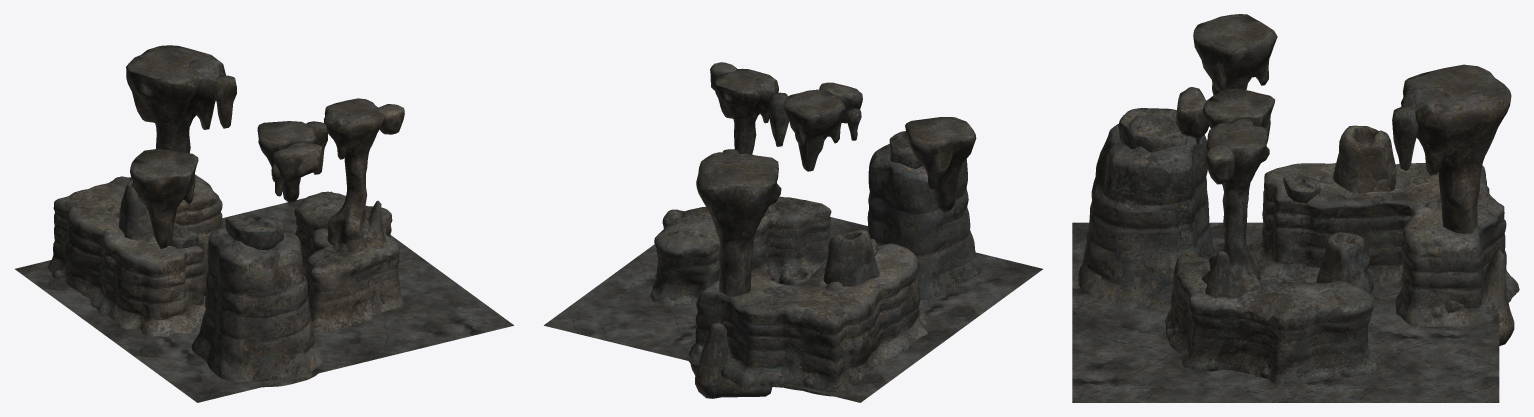
The model's file is rocks.glb.
3 renders of one model, left to right at view 1: azimuth 30°, elevation 25°; view 2: azimuth 150°, elevation 25°; view 3: azimuth 270°, elevation 25°, orthographic. The views are drawn at different scales.
Parts seen in each view (by area): view 1: floor, cliff3, cliff1, cliff2, pilar1_1, pilar1, pilar2_1, pilar2, pilar7, pilar3, pilar4_1, pilar5 (+2 smaller); view 2: cliff3, floor, cliff1, cliff2, pilar1_1, pilar2_1, pilar1, pilar2, pilar3, pilar4, pilar7; view 3: floor, cliff3, cliff1, cliff2, pilar1_1, pilar1, pilar2_1, pilar3, pilar6, pilar2, pilar7, pilar4_1 (+2 smaller).
Part boxes in pixels (bbox=[...]): floor: bbox=[15, 191, 513, 402]; cliff3: bbox=[47, 174, 222, 336]; cliff1: bbox=[191, 214, 322, 387]; cliff2: bbox=[294, 191, 403, 332]; pilar1_1: bbox=[126, 45, 225, 153]; pilar1: bbox=[324, 98, 386, 253]; pilar2_1: bbox=[130, 149, 198, 249]; pilar2: bbox=[257, 121, 316, 203]; pilar7: bbox=[272, 142, 321, 181]; pilar3: bbox=[118, 178, 153, 240]; pilar4_1: bbox=[215, 75, 236, 128]; pilar5: bbox=[377, 104, 404, 134]; cliff3: bbox=[689, 243, 931, 396]; floor: bbox=[544, 217, 1042, 402]; cliff1: bbox=[867, 131, 982, 300]; cliff2: bbox=[650, 196, 831, 306]; pilar1_1: bbox=[690, 152, 781, 398]; pilar2_1: bbox=[905, 117, 976, 212]; pilar1: bbox=[714, 68, 778, 216]; pilar2: bbox=[783, 89, 845, 171]; pilar3: bbox=[823, 230, 879, 286]; pilar4: bbox=[768, 92, 788, 146]; pilar7: bbox=[819, 82, 862, 123]; floor: bbox=[1072, 222, 1499, 402]; cliff3: bbox=[1249, 163, 1519, 327]; cliff1: bbox=[1078, 108, 1215, 304]; cliff2: bbox=[1165, 252, 1380, 386]; pilar1_1: bbox=[1401, 64, 1514, 345]; pilar1: bbox=[1202, 123, 1269, 297]; pilar2_1: bbox=[1193, 14, 1277, 95]; pilar3: bbox=[1333, 125, 1396, 194]; pilar6: bbox=[1316, 232, 1373, 294]; pilar2: bbox=[1202, 88, 1274, 143]; pilar7: bbox=[1175, 87, 1209, 138]; pilar4_1: bbox=[1392, 106, 1418, 170].
Size of the model in its own units: 4000 by 2637 by 4189.
Materials: 3 (3 with a texture image).
